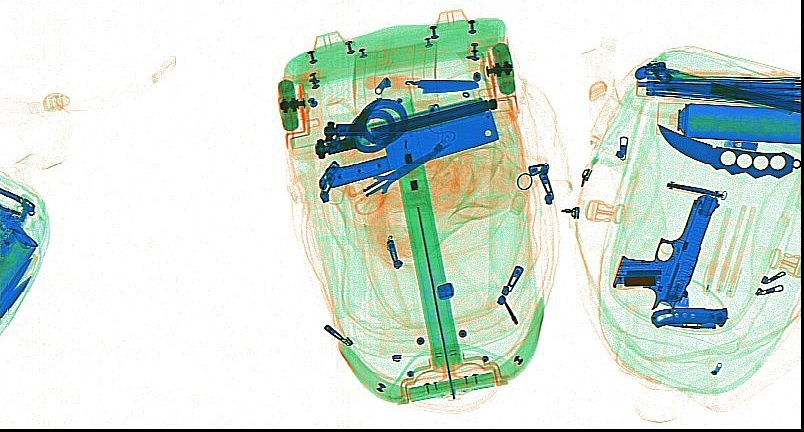handcuffs: (312, 96, 408, 160)
knife: (324, 99, 496, 188), (656, 120, 799, 178), (362, 72, 479, 94), (651, 307, 730, 330), (1, 257, 33, 305), (662, 178, 725, 199), (1, 278, 32, 320)
pressure: (673, 101, 798, 145)
scissors: (344, 143, 450, 215)
